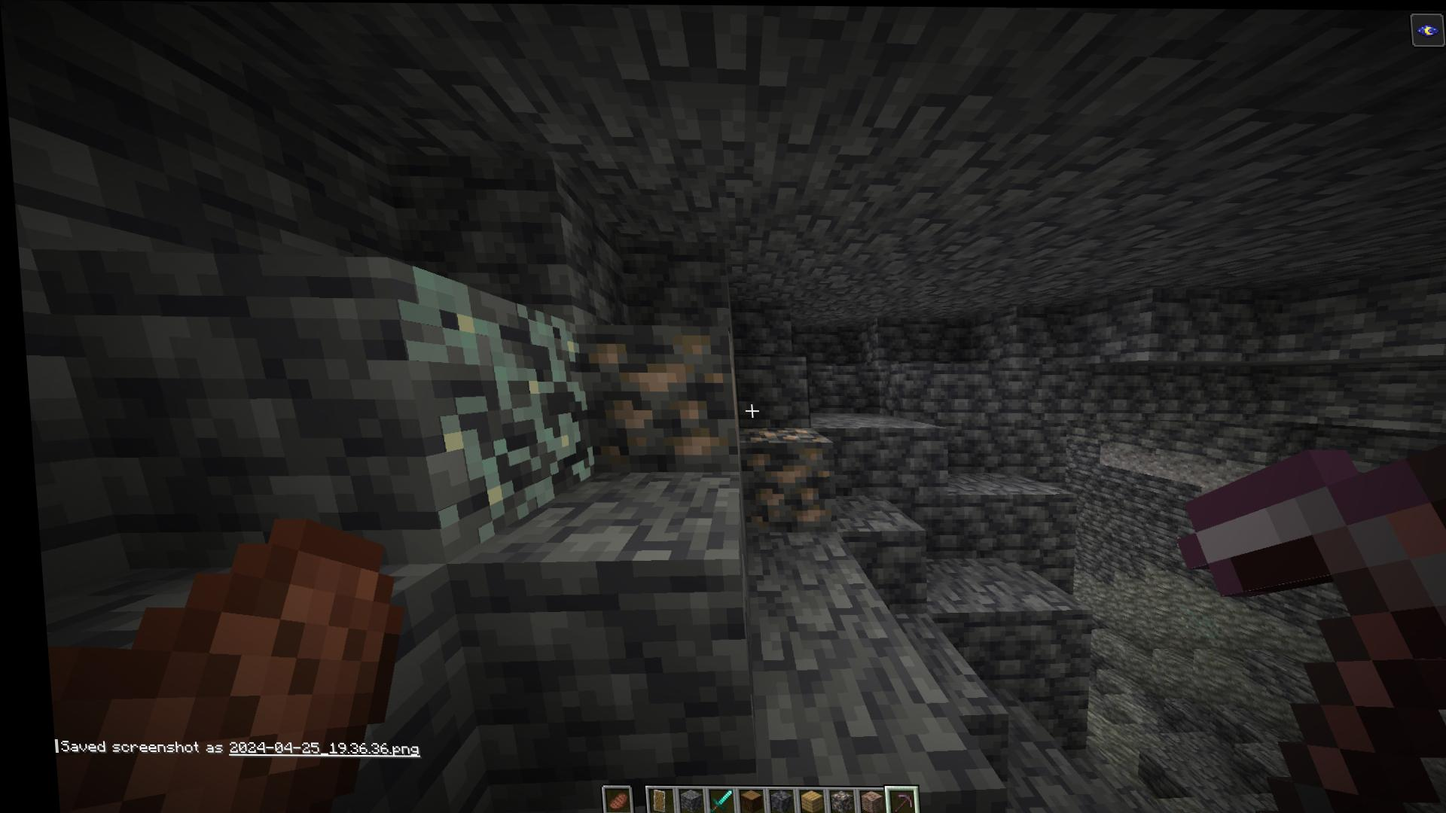iron ore: (578, 324, 730, 461), (737, 445, 830, 531), (733, 421, 821, 444)
